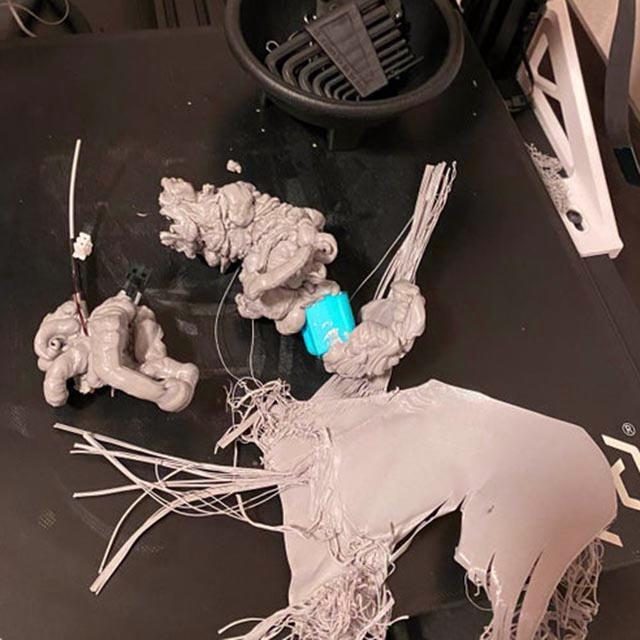spaghetti: (260, 523, 411, 640), (540, 539, 606, 640), (224, 377, 311, 444)
